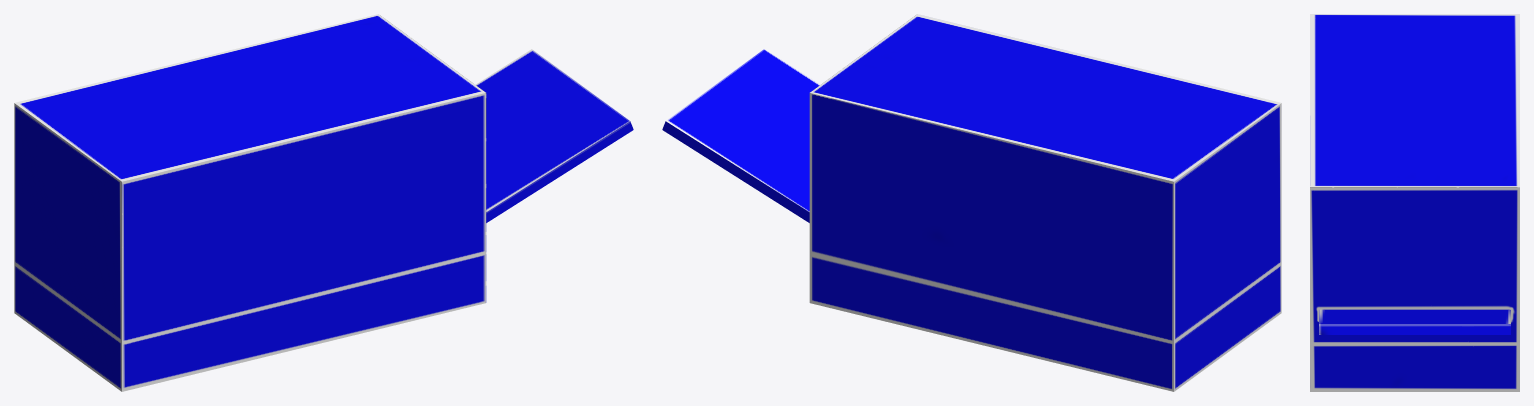
File: Printer_Simple.fbx
3 views of the same model, side by side, from view 1: azimuth 30°, elevation 25°; view 2: azimuth 150°, elevation 25°; view 3: azimuth 270°, elevation 25° (orthographic). The views are drawn at different scales.
Parts seen in each view (by area): view 1: Cube, Cube.001; view 2: Cube, Cube.001; view 3: Cube, Cube.001.
Part boxes in pixels (x1,y1,x2,y2): Cube: (14,14,486,391); Cube.001: (475,49,633,222); Cube: (809,14,1281,391); Cube.001: (662,49,820,222); Cube: (1310,14,1519,391); Cube.001: (1319,309,1510,334).
Bounding box in the file's own units: 283 × 110 × 102.
Materials: 2 (2 with a texture image).
